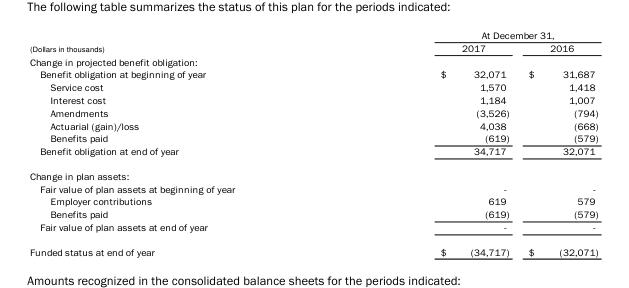table: (28, 29, 597, 256)
table column: (28, 29, 336, 256), (336, 29, 518, 256), (518, 29, 597, 256)
table column header: (28, 29, 597, 54)
table projected row header: (28, 163, 597, 181), (28, 54, 597, 67)
table row: (28, 144, 597, 163), (28, 220, 597, 239), (28, 163, 597, 181), (28, 239, 597, 256), (28, 41, 597, 54), (28, 54, 597, 67), (28, 79, 597, 92), (28, 92, 597, 105), (28, 105, 597, 118), (28, 118, 597, 131), (28, 131, 597, 144), (28, 181, 597, 194), (28, 194, 597, 207), (28, 207, 597, 220), (28, 29, 597, 41), (28, 67, 597, 79)
table spanning cell: (28, 29, 336, 54), (336, 29, 597, 41)
